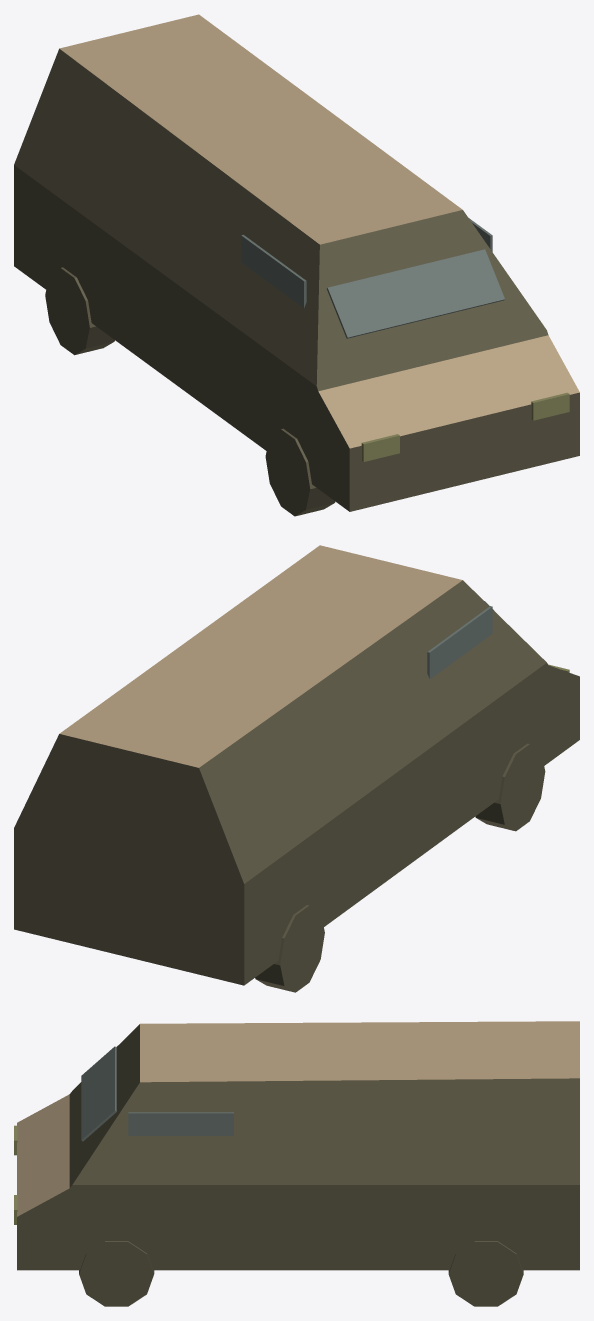
File: SM_CocheCivil_Furgoneta_v0_LOD0.fbx
3 views of the same model, one above another, from view 1: azimuth 30°, elevation 25°; view 2: azimuth 150°, elevation 25°; view 3: azimuth 270°, elevation 25° (orthographic). The views are drawn at different scales.
Visible parts, largest first — view 1: SM_coche_civil_v10_LOD0; view 2: SM_coche_civil_v10_LOD0; view 3: SM_coche_civil_v10_LOD0.
Boxes of the visible parts, x1,y1,x2,y2 form: SM_coche_civil_v10_LOD0: [14, 14, 579, 516]; SM_coche_civil_v10_LOD0: [14, 545, 579, 992]; SM_coche_civil_v10_LOD0: [14, 1021, 579, 1306].
Bounding box in the file's own units: 1.94 × 1.96 × 4.83.
